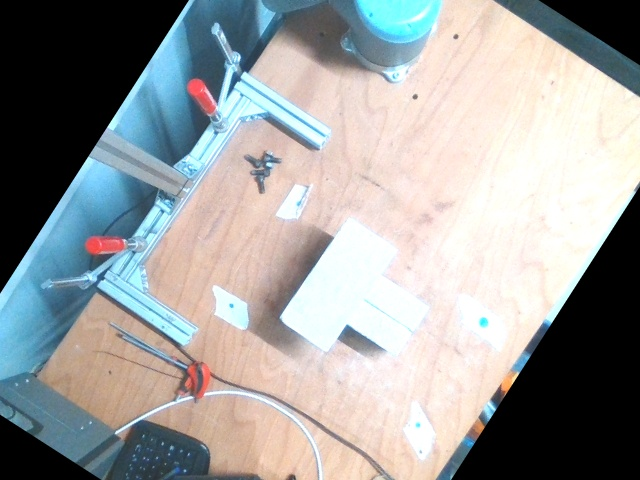brick: (278, 218, 395, 352)
